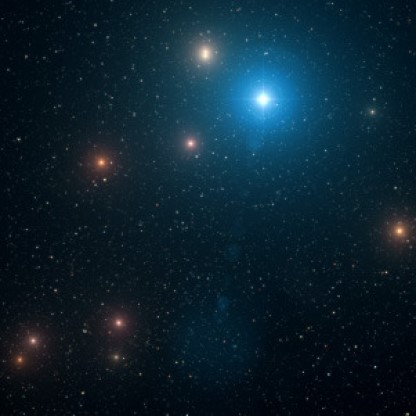Lyra: (237, 67, 301, 136), (81, 143, 117, 178), (188, 35, 216, 69), (104, 309, 132, 339), (174, 131, 208, 155), (22, 324, 48, 354)
